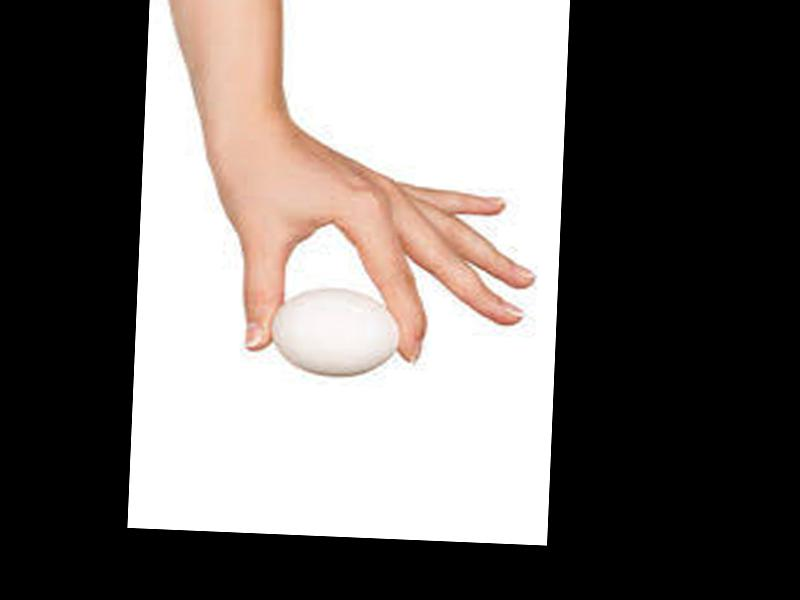Eggs: (270, 285, 402, 381)
